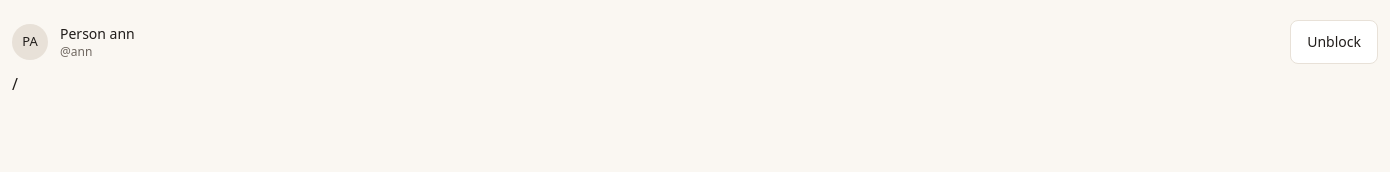
BlockedUsersSection › tells you when an unblock fails
The image size is (1390, 172).
What coordinates should you click on to do the following:
click the button with aria-label "Unblock @ann"
I would click on:
 (1334, 42)
Its box is x1=1290 y1=20 x2=1378 y2=64.
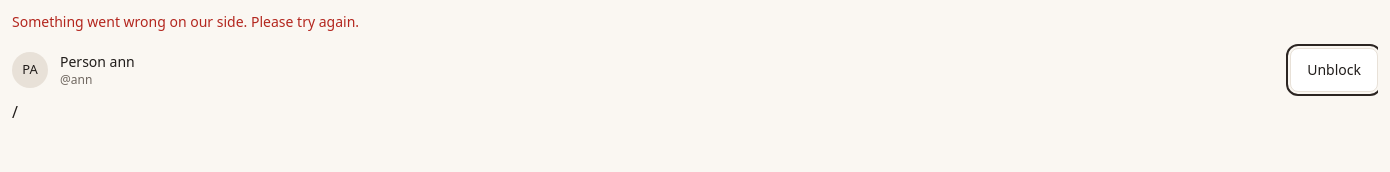
Check: the text "Person ann" is shown, box x1=60 y1=52 x2=135 y2=71
Check: the message shows "went wrong", box x1=12 y1=12 x2=359 y2=31
